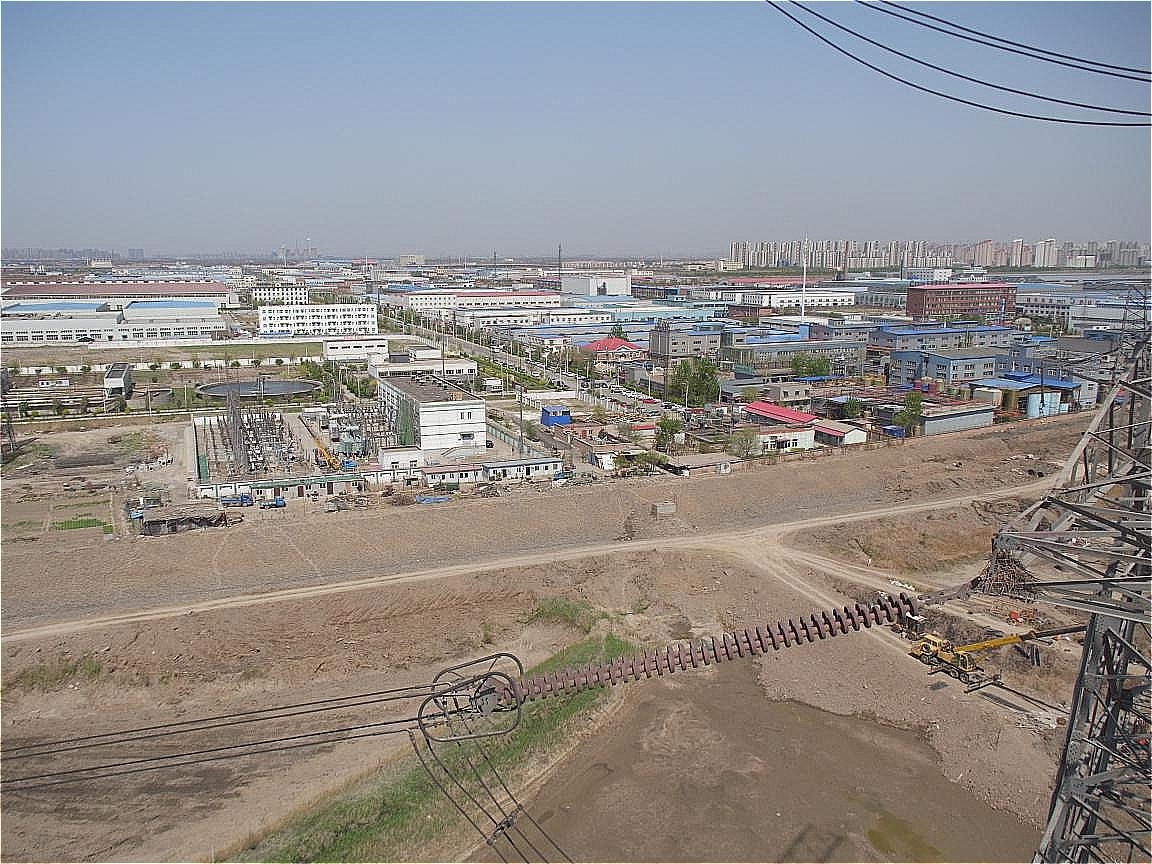insultor1: (482, 581, 932, 714)
